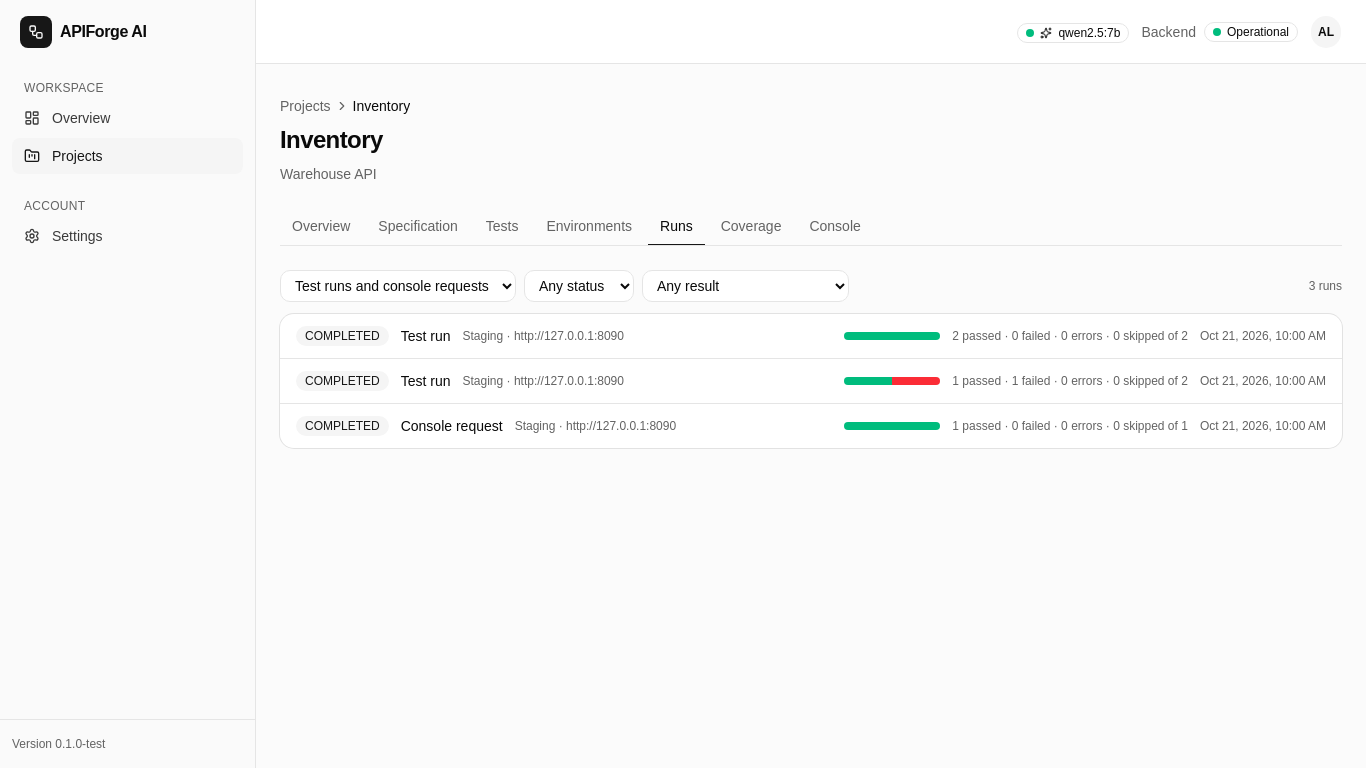
Test: Run history filters › filters by kind and result, keeps the filters in the URL and can clear them
Expected: the text "3 runs" is shown, [1309,278,1342,294]
Select "Test runs" in the dropdown named "Kind" at (398, 286), box [280,270,516,302]
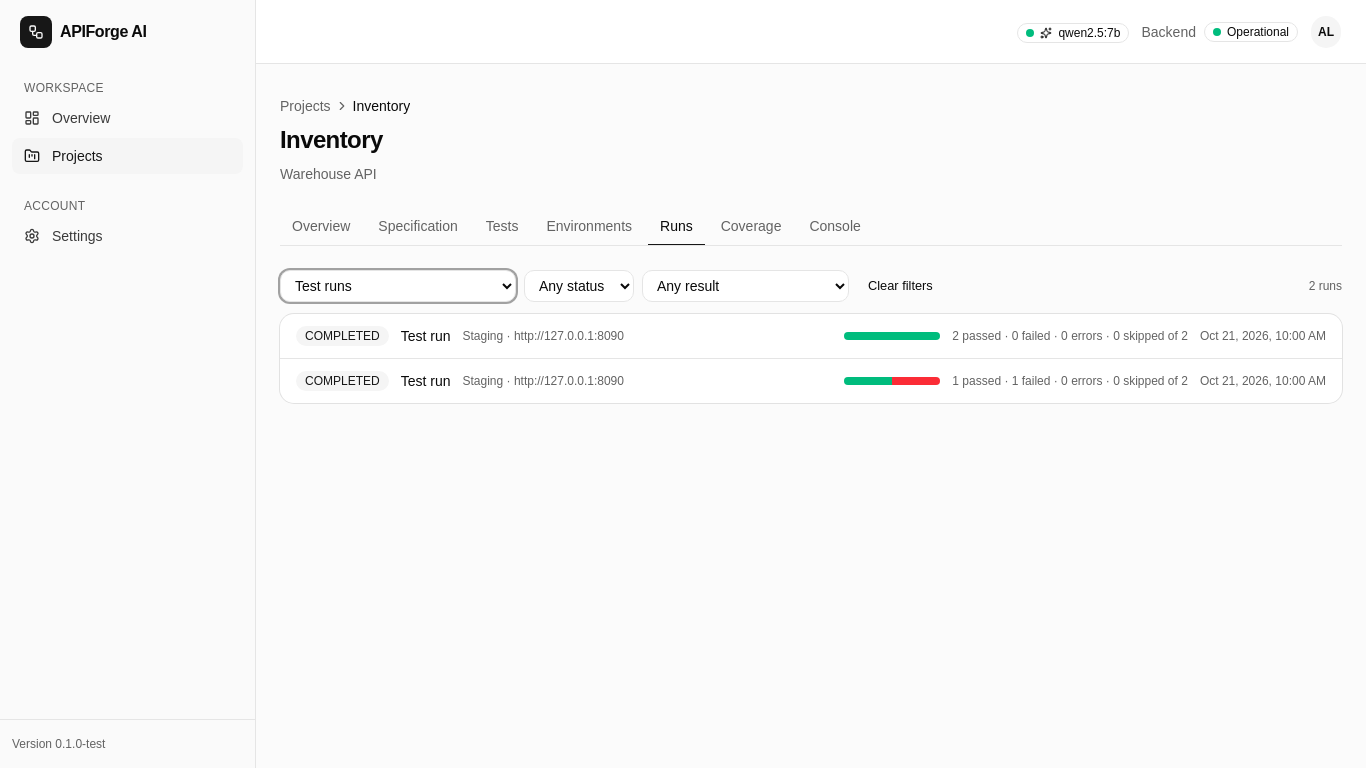
Result: the text "2 runs" is shown at [1309,278,1342,294]
Select "With failures or errors" in the dropdown named "Result" at (746, 286), box [642,270,849,302]
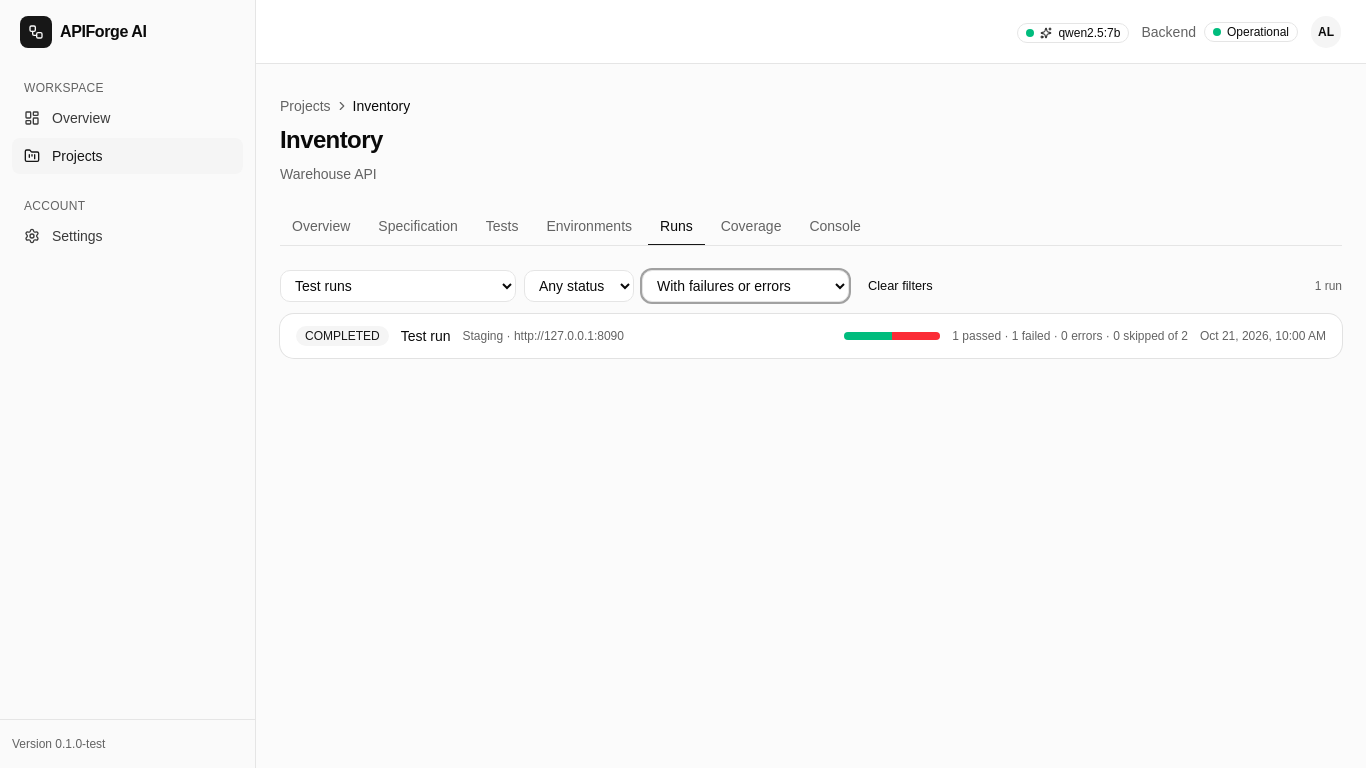
Select "Running" in the dropdown named "Status" at (579, 286), box [524,270,634,302]
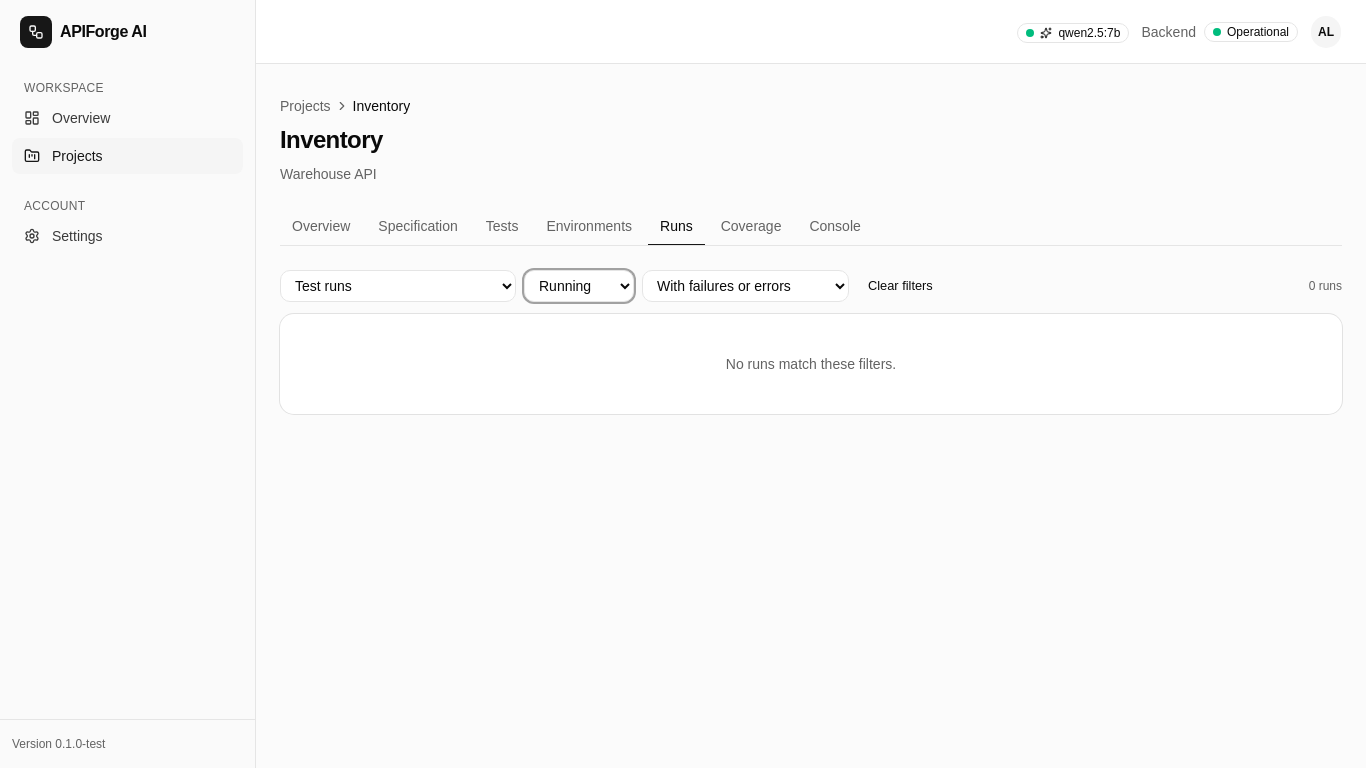
Result: the text "No runs match these filters." is shown at [280,314,1342,414]
Click the button "Clear filters".
click(900, 286)  # box [857,272,944,300]
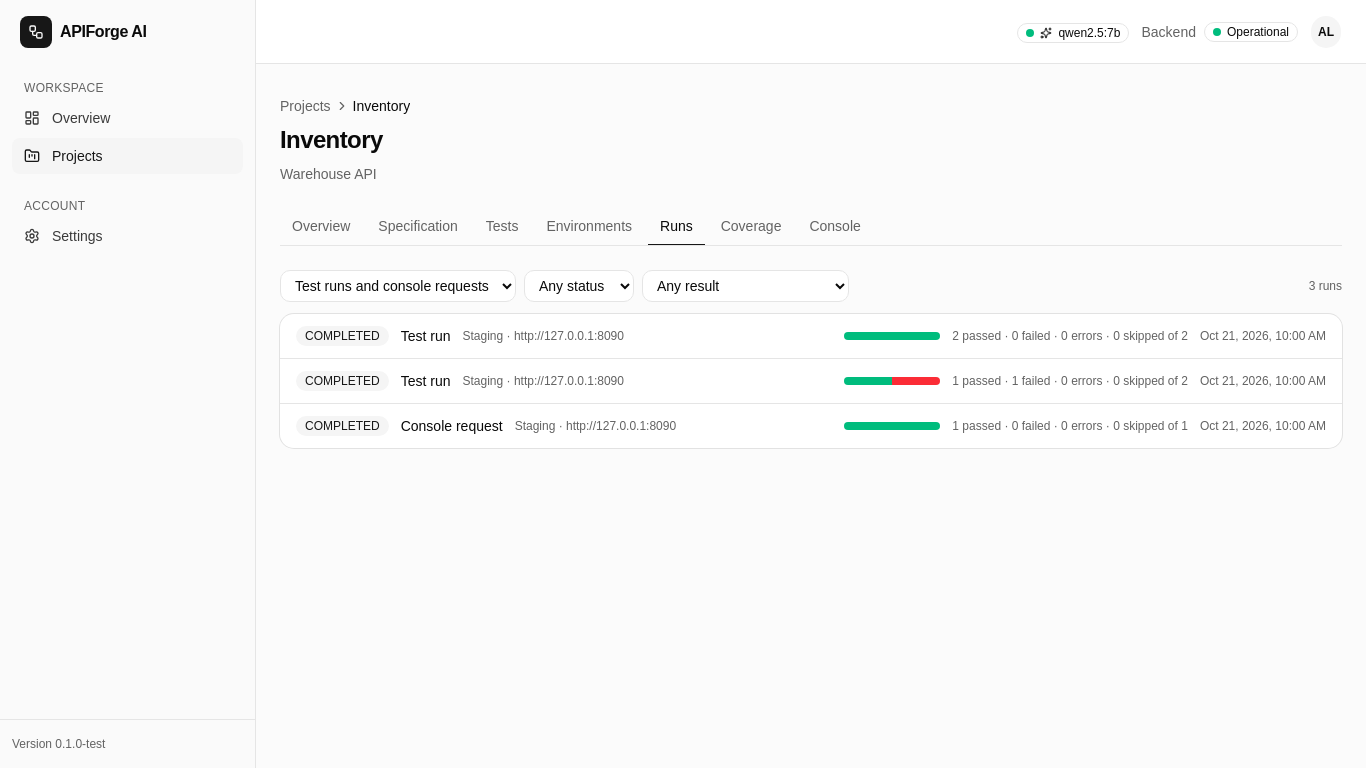
Result: the text "3 runs" is shown at [1309,278,1342,294]
